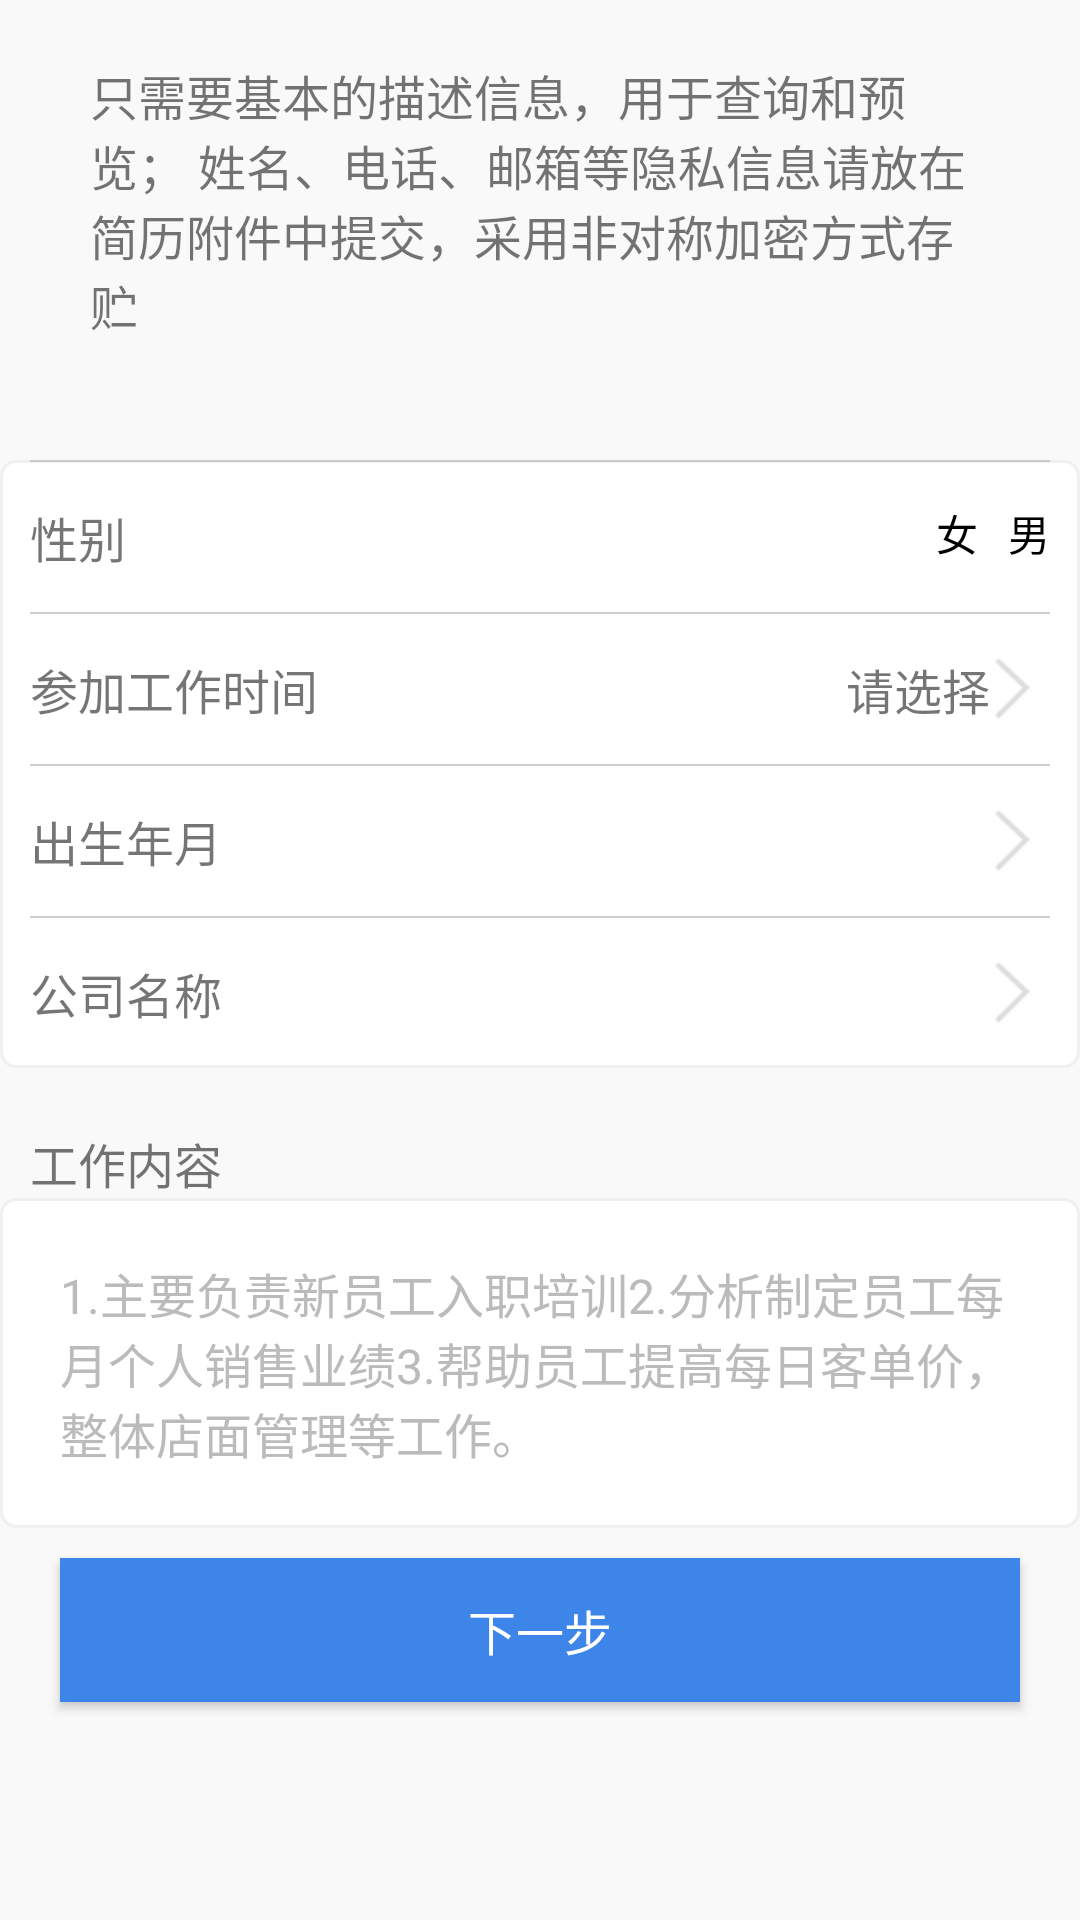

Where to tap for icons on this 1080x1920 app screen, as (x,y):
right arrow: (1012,688), (1012,840), (1012,992)
